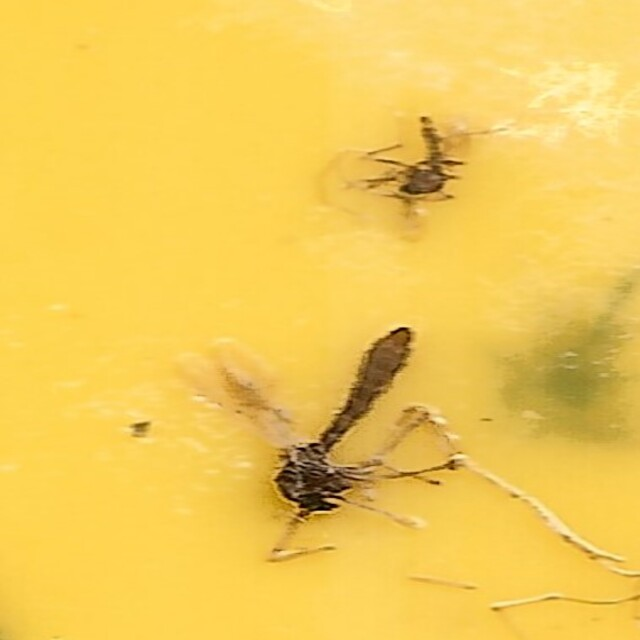Nematocera: (169, 316, 453, 526), (356, 114, 471, 235)
